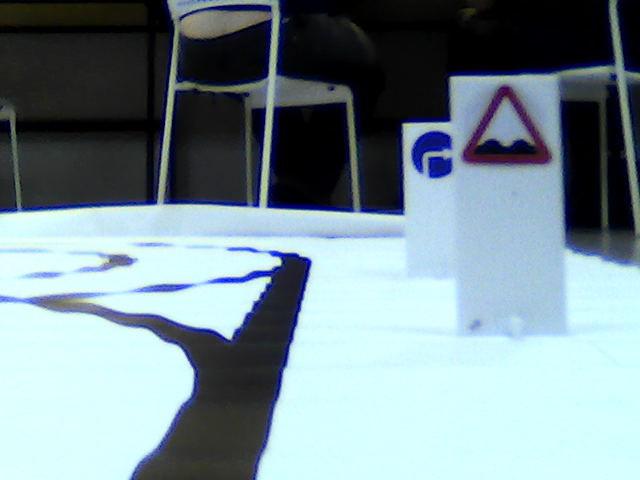Nerov: (461, 81, 556, 164)
Right: (410, 128, 453, 177)
